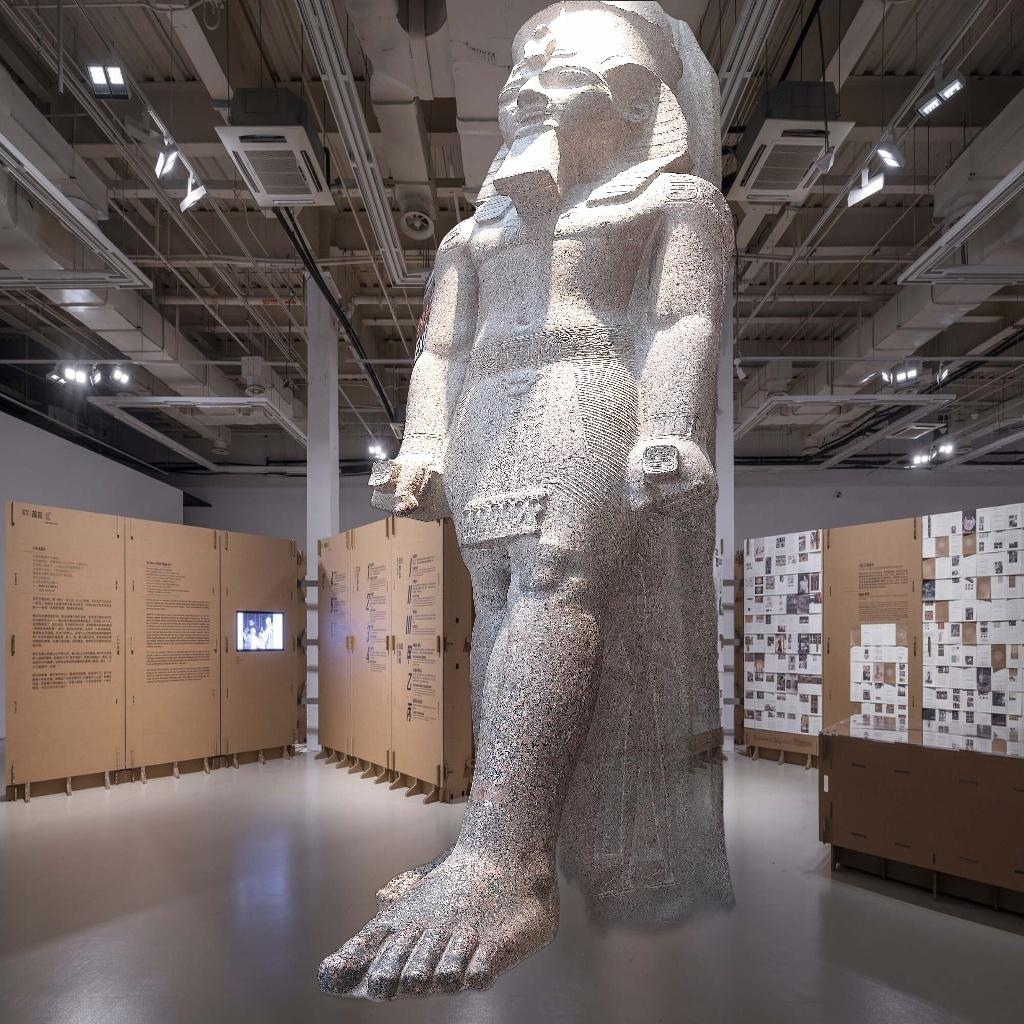Colossal Statue of Ramesses II: (314, 1, 779, 1002)
